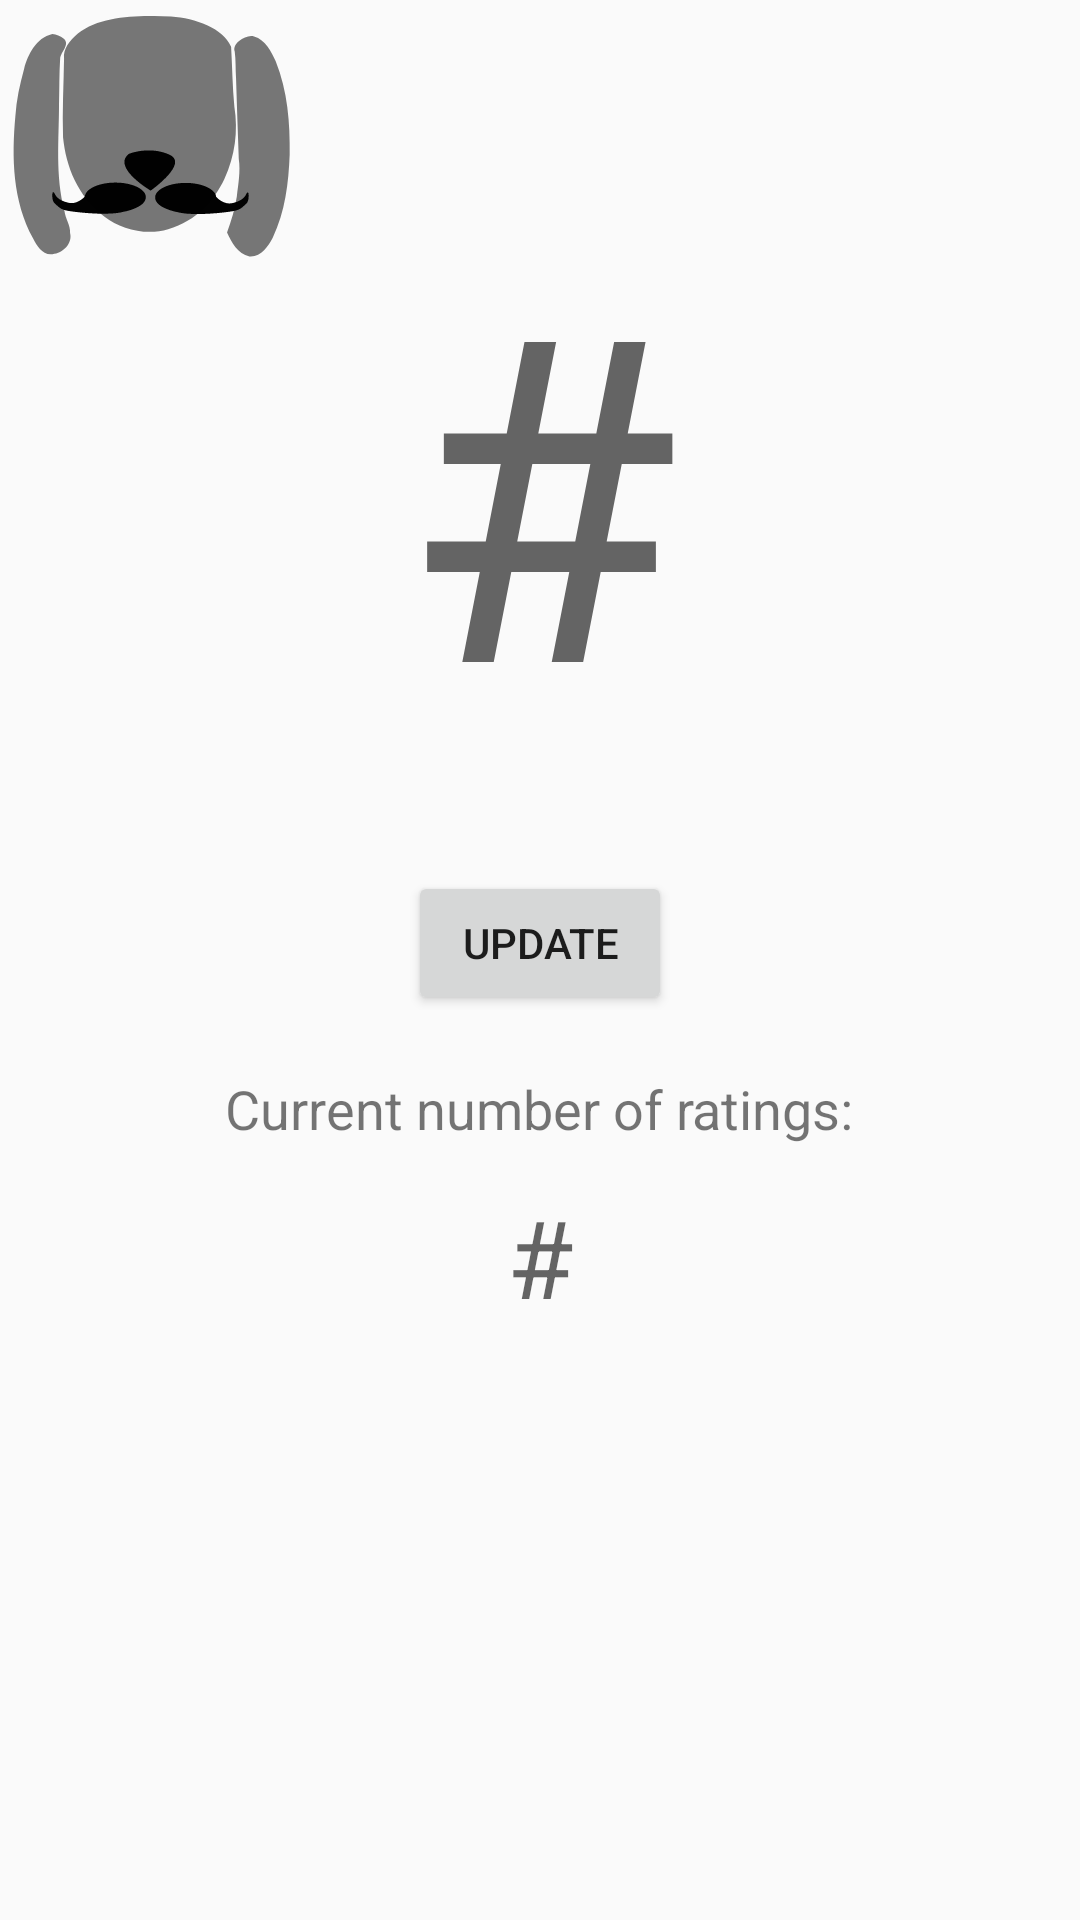

Named icons in this screenshot (1080px x 1920px) and their bounding boxes, (x1, y1, x2, y2):
doggo: (13, 16, 290, 257)
